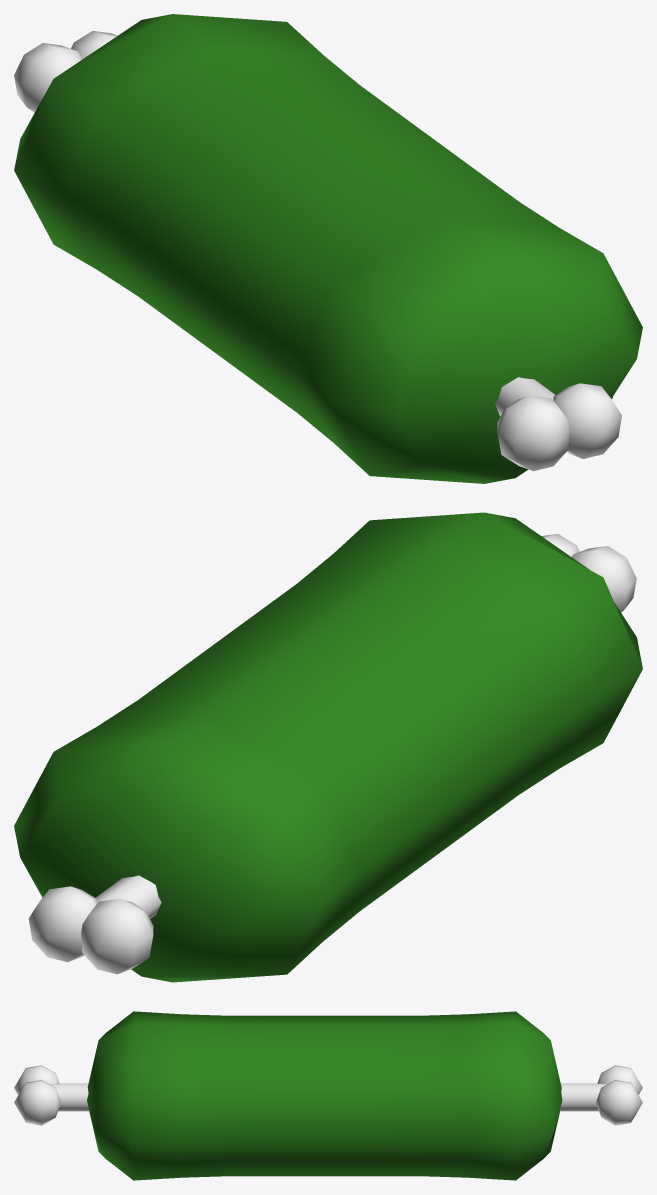
Rendered from Meat.FBX.
3 renders of one model, top to bottom at view 1: azimuth 30°, elevation 25°; view 2: azimuth 150°, elevation 25°; view 3: azimuth 270°, elevation 25°, orthographic. The views are drawn at different scales.
Visible parts, largest first — view 1: Box001, Bone; view 2: Box001, Bone; view 3: Box001, Bone.
Part boxes in pixels (bbox=[...]): Box001: bbox=[14, 14, 642, 483]; Bone: bbox=[14, 31, 621, 471]; Box001: bbox=[14, 512, 642, 982]; Bone: bbox=[28, 534, 636, 974]; Box001: bbox=[87, 1011, 562, 1180]; Bone: bbox=[14, 1065, 642, 1125].
Size of the model in its own units: 8.68 by 6.45 by 25.15.
